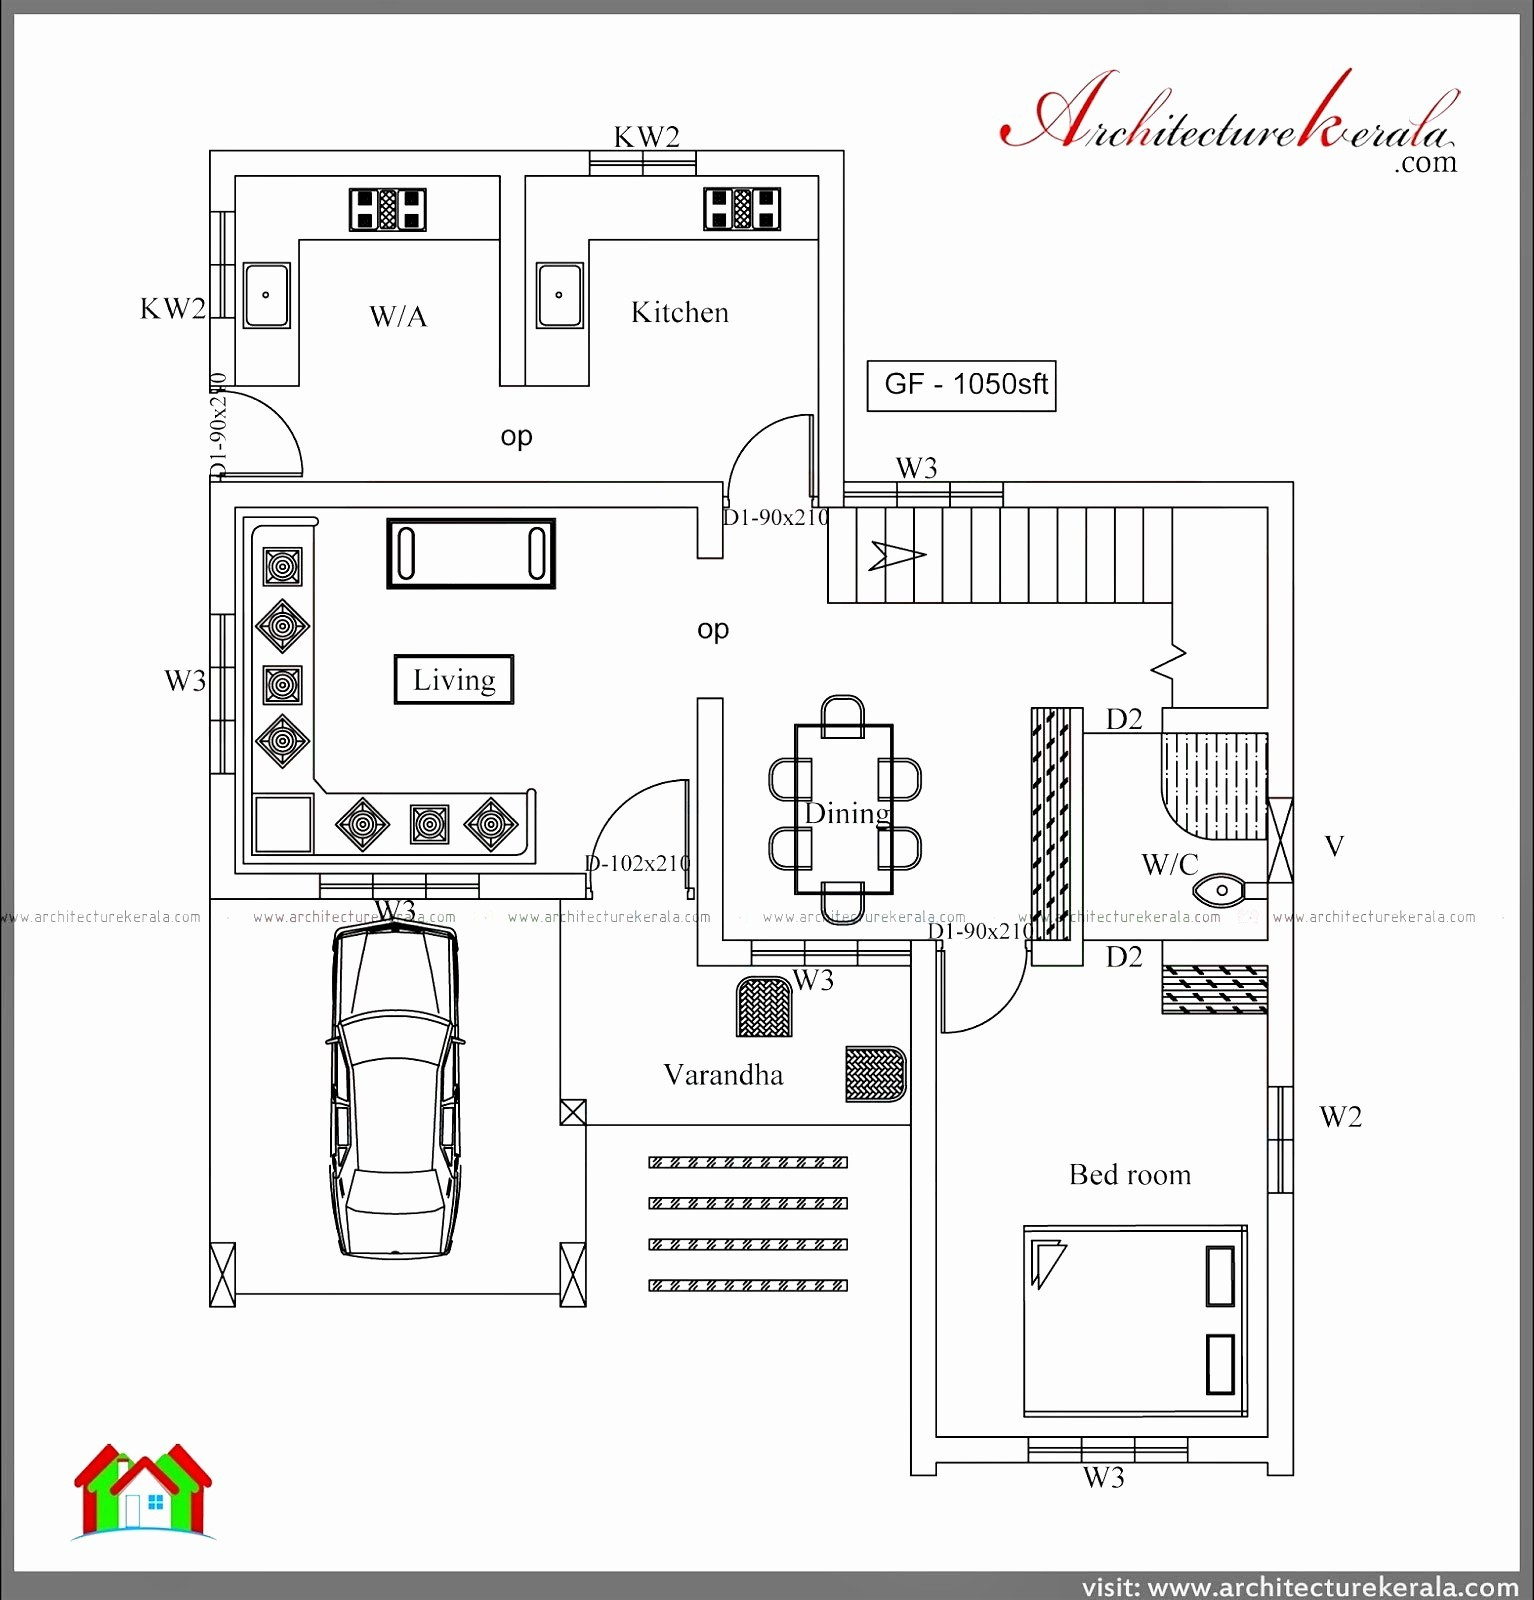door: (591, 770, 691, 851), (938, 953, 1028, 1043), (726, 406, 816, 490), (227, 391, 307, 479)
